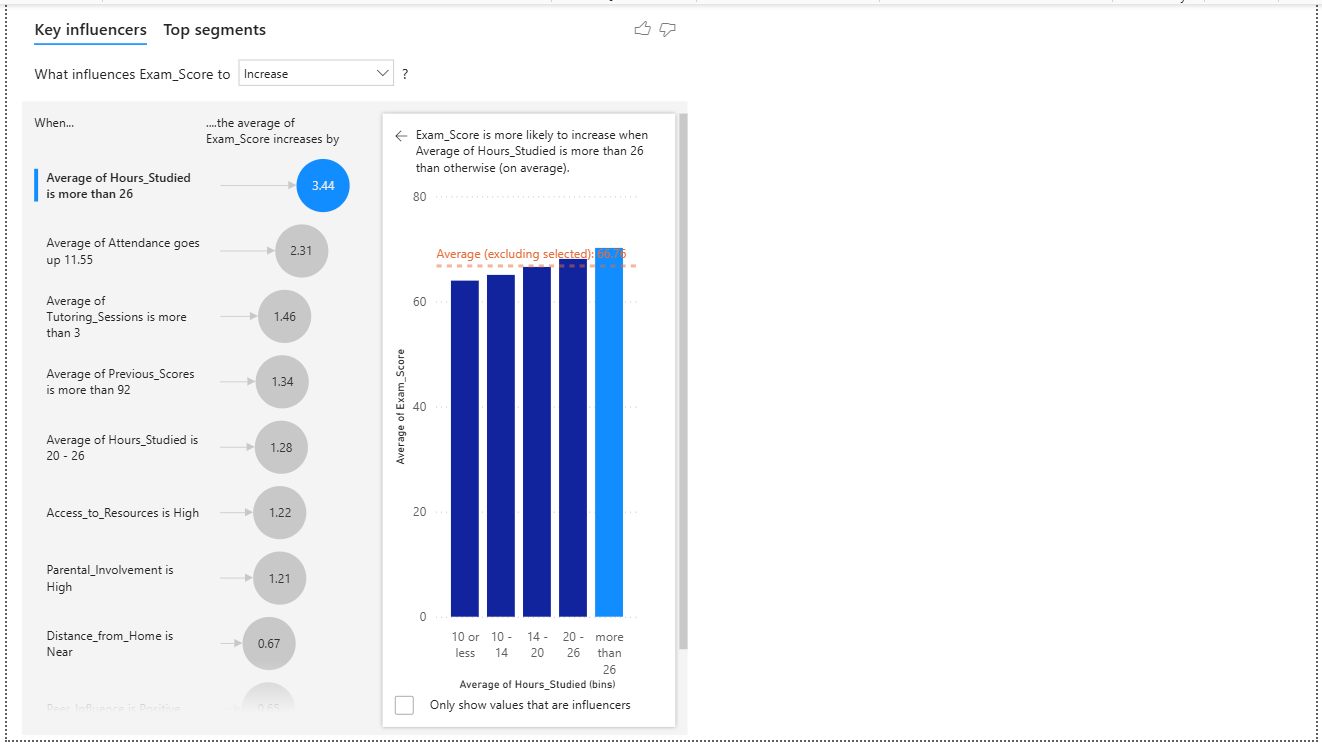

This screenshot's page, from the dashboard's own definition file:
{"tool":"powerbi","page":{"name":"Key Influencers","canvas":[1280,720],"ordinal":4},"visuals":[{"type":"keyDriversVisual","fields":{"Target":["StudentPerformanceFactors.Exam_Score"],"ExplainBy":["Avg(StudentPerformanceFactors.Attendance)","Avg(StudentPerformanceFactors.Hours_Studied)","Avg(StudentPerformanceFactors.Previous_Scores)","Avg(StudentPerformanceFactors.Tutoring_Sessions)","StudentPerformanceFactors.Parental_Involvement","StudentPerformanceFactors.Access_to_Resources","StudentPerformanceFactors.Motivation_Level","StudentPerformanceFactors.Family_Income","StudentPerformanceFactors.Teacher_Quality","StudentPerformanceFactors.Internet_Access","StudentPerformanceFactors.Peer_Influence","StudentPerformanceFactors.Distance_from_Home"]},"box":[10,0,661.2,720],"z":0}]}

Visuals, with their boxes in screenshot pixels (x1, y1, x2, y2), scaled from the page's 1280x720 canvas onto the 1322x746 screenshot:
keyDriversVisual - StudentPerformanceFactors.Exam_Score x Avg(StudentPerformanceFactors.Attendance): l=10, t=0, r=693, b=745
